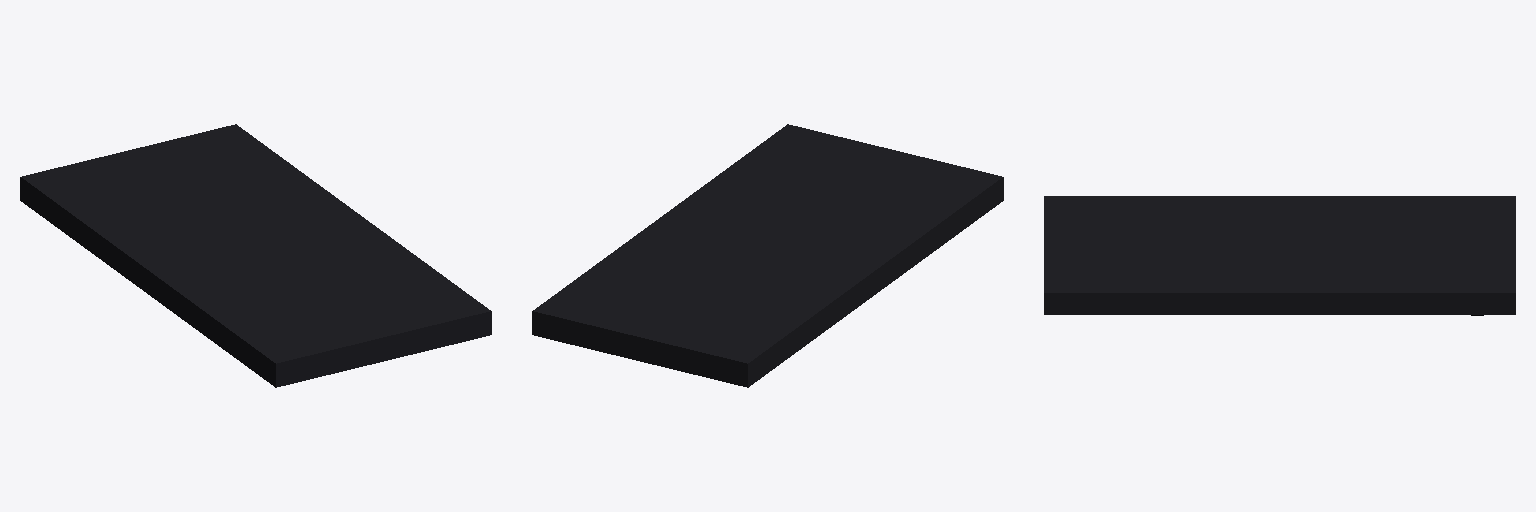
robot.urdf — iphone_13:
<?xml version="1.0"?>
<!-- iPhone 13: generated by imuninn from Apple's dimensional drawings (iphone-frames dataset). Frames: device = display centre on the front glass (x right, y top, z out of the screen); cam_*_optical = OpenCV axes. Geometry and mass are approximate. -->
<robot name="iphone_13">
  <material name="iphone_body">
    <color rgba="0.15 0.15 0.17 1" />
  </material>
  <material name="iphone_lens">
    <color rgba="0.05 0.05 0.06 1" />
  </material>
  <link name="device">
    <visual name="body">
      <origin xyz="0 5e-06 -0.003825" rpy="0 0 0" />
      <geometry>
        <box size="0.07152 0.1467 0.00765" />
      </geometry>
      <material name="iphone_body" />
    </visual>
    <collision name="body">
      <origin xyz="0 5e-06 -0.003825" rpy="0 0 0" />
      <geometry>
        <box size="0.07152 0.1467 0.00765" />
      </geometry>
    </collision>
    <visual name="lens_ultra_wide">
      <origin xyz="0.02388 0.061475 -0.008945" rpy="0 0 0" />
      <geometry>
        <cylinder radius="0.006845" length="0.00259" />
      </geometry>
      <material name="iphone_lens" />
    </visual>
    <visual name="lens_main">
      <origin xyz="0.01152 0.049115 -0.008945" rpy="0 0 0" />
      <geometry>
        <cylinder radius="0.006845" length="0.00259" />
      </geometry>
      <material name="iphone_lens" />
    </visual>
    <inertial>
      <origin xyz="0 5e-06 -0.003825" rpy="0 0 0" />
      <mass value="0.185" />
      <inertia ixx="0.000332683" ixy="0" ixz="0" iyy="7.97602e-05" iyz="0" izz="0.000410638" />
    </inertial>
  </link>
  <link name="magsafe" />
  <joint name="device_to_magsafe" type="fixed">
    <parent link="device" />
    <child link="magsafe" />
    <origin xyz="0 5e-06 -0.00765" rpy="3.14159265 0 3.14159265" />
  </joint>
  <link name="cam_ultra_wide_optical" />
  <joint name="device_to_cam_ultra_wide_optical" type="fixed">
    <parent link="device" />
    <child link="cam_ultra_wide_optical" />
    <origin xyz="0.02388 0.061475 -0.01024" rpy="3.14159265 0 -1.57079633" />
  </joint>
  <link name="cam_main_optical" />
  <joint name="device_to_cam_main_optical" type="fixed">
    <parent link="device" />
    <child link="cam_main_optical" />
    <origin xyz="0.01152 0.049115 -0.01024" rpy="3.14159265 0 -1.57079633" />
  </joint>
  <link name="cam_front_optical" />
  <joint name="device_to_cam_front_optical" type="fixed">
    <parent link="device" />
    <child link="cam_front_optical" />
    <origin xyz="0 0.067765 0" rpy="0 0 1.57079633" />
  </joint>
  <link name="imu" />
  <joint name="device_to_imu" type="fixed">
    <parent link="device" />
    <child link="imu" />
    <origin xyz="0 0 0" rpy="0 0 0" />
  </joint>
</robot>

--- What the picture shows (computed from the rendered views, not written in the file) ---
The picture shows the robot from 3 angles, left to right: view 1: azimuth 30°, elevation 25°; view 2: azimuth 150°, elevation 25°; view 3: azimuth 270°, elevation 25°; orthographic projection.
Robot: iphone_13 — 6 links, 5 joints (5 fixed); root link device; default pose: all joints at 0.
Visible links, largest first — view 1: device; view 2: device; view 3: device.
Boxes of the visible links, x1,y1,x2,y2 form: device: (20,124,491,387); device: (532,124,1003,387); device: (1044,196,1515,315).
Size in the robot's own frame: 0.0715 by 0.1467 by 0.0102 metres.
Geometry: primitives only (box / cylinder / sphere), no mesh files.
